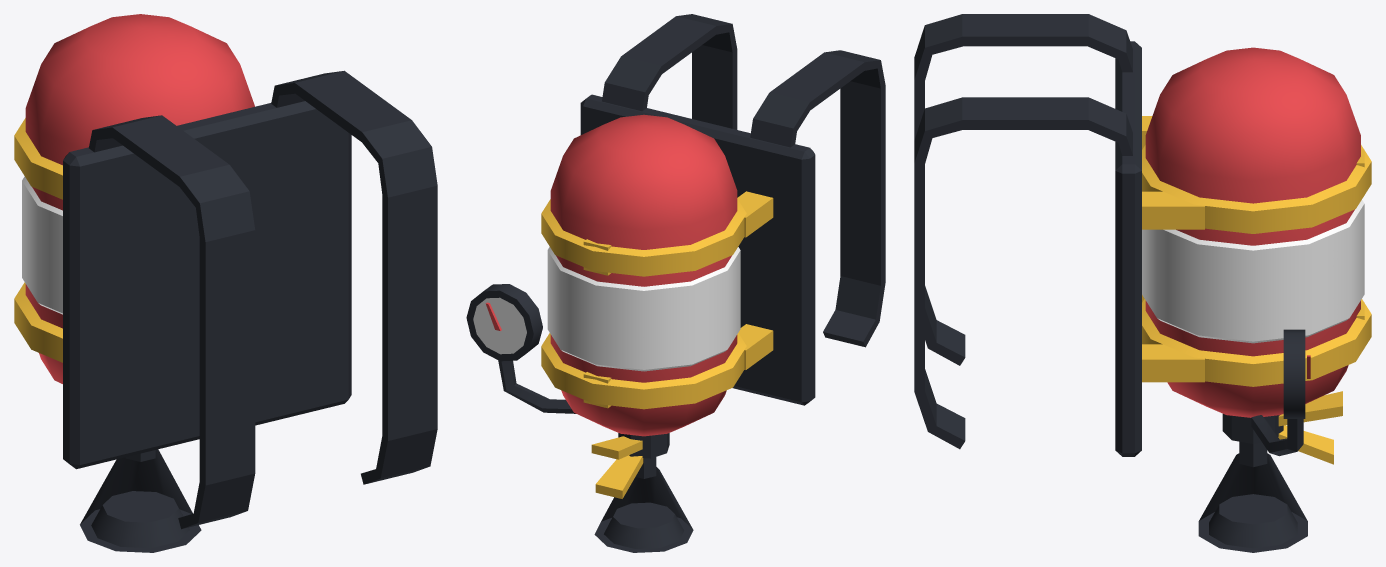
File: propulseur_extincteur.fbx
3 views of the same model, side by side, from view 1: azimuth 30°, elevation 25°; view 2: azimuth 150°, elevation 25°; view 3: azimuth 270°, elevation 25° (orthographic). The views are drawn at different scales.
Parts seen in each view (by area): view 1: propulseur_extincteur_Sangles, propulseur_extincteur_Cuve, propulseur_extincteur_Noir, propulseur_extincteur_Blanc, propulseur_extincteur_Jaune; view 2: propulseur_extincteur_Sangles, propulseur_extincteur_Cuve, propulseur_extincteur_Blanc, propulseur_extincteur_Jaune, propulseur_extincteur_Noir; view 3: propulseur_extincteur_Cuve, propulseur_extincteur_Sangles, propulseur_extincteur_Blanc, propulseur_extincteur_Jaune, propulseur_extincteur_Noir.
Boxes of the visible parts, box(x1,y1,x2,y2) form: propulseur_extincteur_Sangles: box(63, 70, 437, 529); propulseur_extincteur_Cuve: box(25, 14, 254, 383); propulseur_extincteur_Noir: box(80, 449, 201, 552); propulseur_extincteur_Blanc: box(22, 176, 62, 314); propulseur_extincteur_Jaune: box(14, 118, 62, 362); propulseur_extincteur_Sangles: box(580, 14, 885, 405); propulseur_extincteur_Cuve: box(550, 114, 737, 436); propulseur_extincteur_Blanc: box(473, 247, 740, 371); propulseur_extincteur_Jaune: box(541, 191, 773, 498); propulseur_extincteur_Noir: box(466, 284, 693, 552); propulseur_extincteur_Cuve: box(1145, 47, 1360, 417); propulseur_extincteur_Sangles: box(914, 14, 1141, 456); propulseur_extincteur_Blanc: box(1142, 200, 1364, 343); propulseur_extincteur_Jaune: box(1142, 116, 1371, 464); propulseur_extincteur_Noir: box(1198, 329, 1307, 552).
Size of the model in its own units: 2 by 2.88 by 2.55.
